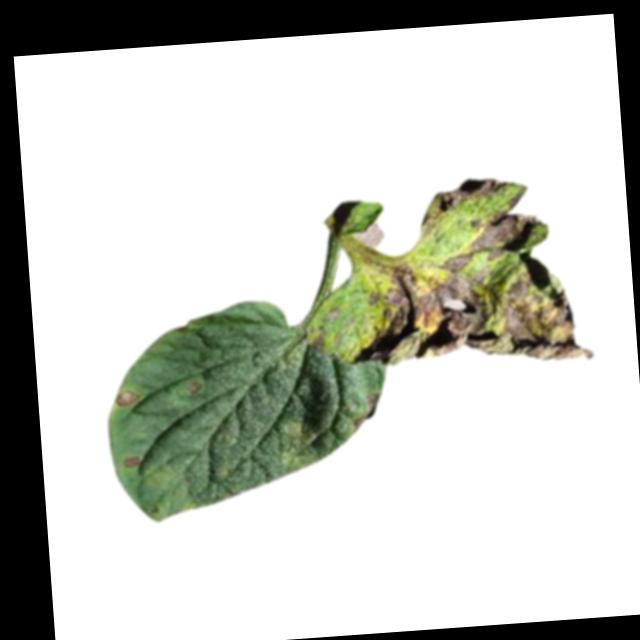Early_blight: (343, 193, 593, 377), (416, 170, 513, 235), (349, 393, 382, 435), (111, 388, 139, 411), (310, 328, 327, 354), (121, 456, 140, 469)
